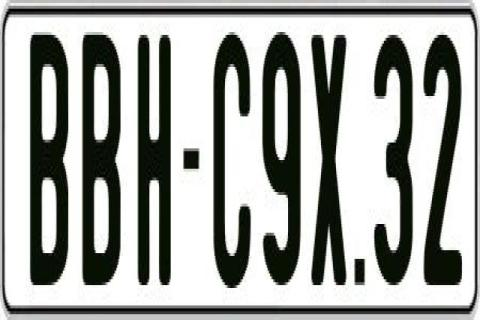0: (260, 23, 302, 291), (374, 29, 415, 297), (422, 35, 462, 299)
B: (81, 35, 121, 299), (30, 35, 68, 303)
C: (212, 29, 255, 297)
H: (134, 29, 171, 291)
X: (308, 29, 349, 297)
